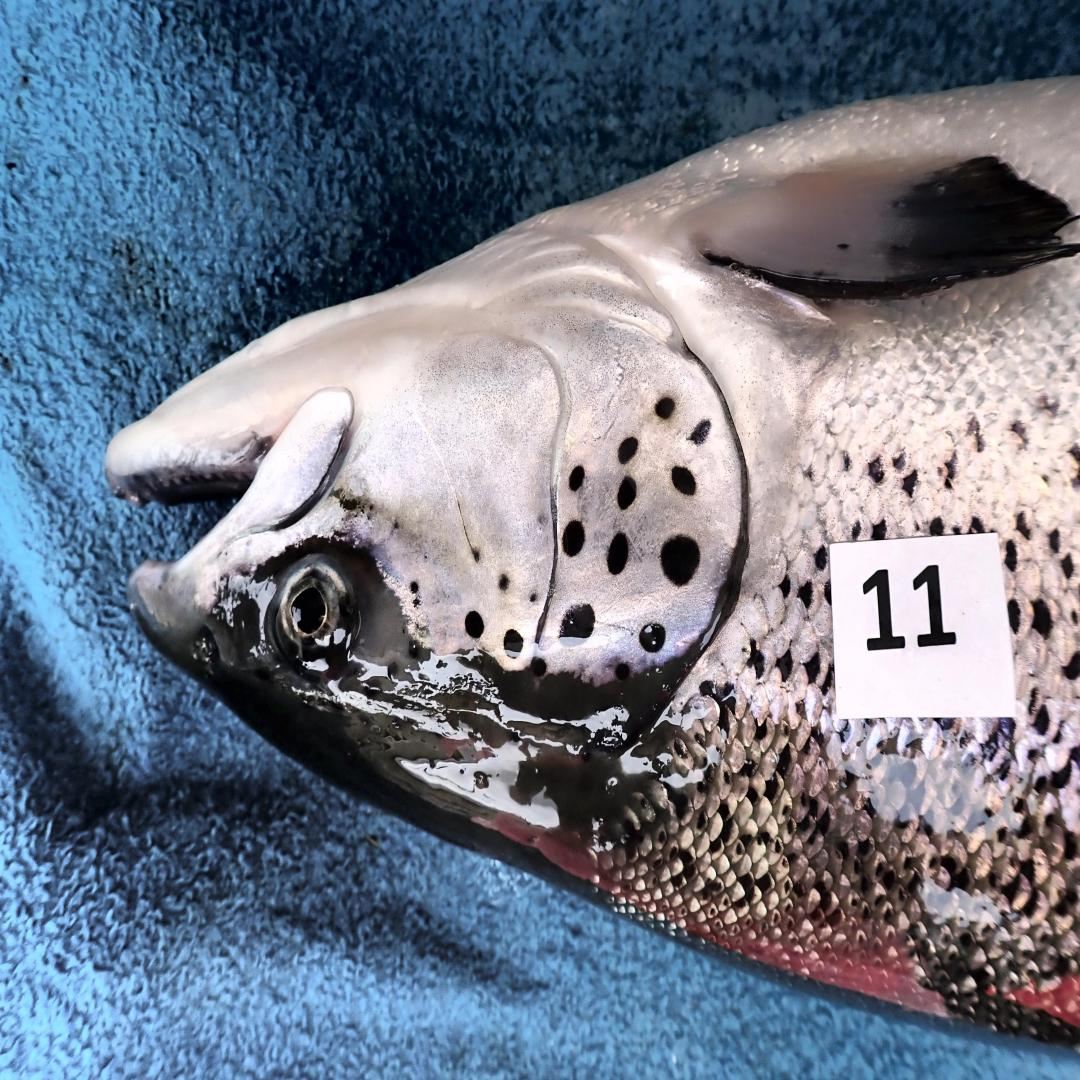spot: (660, 534, 700, 585), (559, 605, 595, 638), (608, 532, 629, 574), (561, 520, 584, 557), (639, 622, 667, 652), (671, 467, 696, 495), (618, 475, 637, 509), (618, 436, 639, 464), (464, 610, 483, 638), (690, 419, 711, 444), (504, 630, 523, 655), (656, 397, 675, 419), (570, 467, 584, 492), (532, 658, 546, 678), (616, 664, 631, 681), (416, 622, 429, 638), (498, 574, 510, 591), (411, 593, 424, 608), (470, 546, 481, 562), (409, 579, 420, 593), (538, 512, 548, 526), (529, 591, 538, 605), (393, 521, 400, 530)
